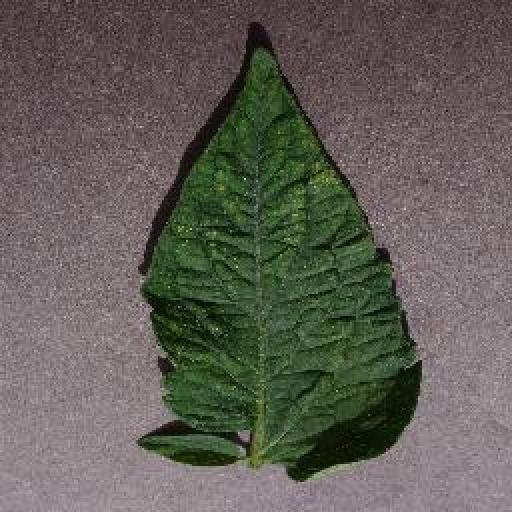disease_tomato: (140, 43, 424, 481)
